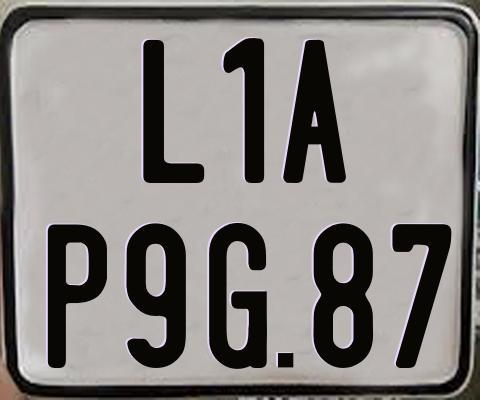1: (220, 37, 264, 185)
7: (389, 223, 453, 369)
8: (313, 223, 374, 371)
9: (123, 222, 186, 370)
A: (283, 40, 346, 185)
G: (209, 223, 270, 371)
L: (143, 38, 204, 183)
P: (48, 222, 108, 369)
